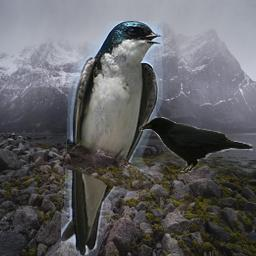Crow: (136, 114, 253, 172)
Swallow: (61, 21, 163, 256)
